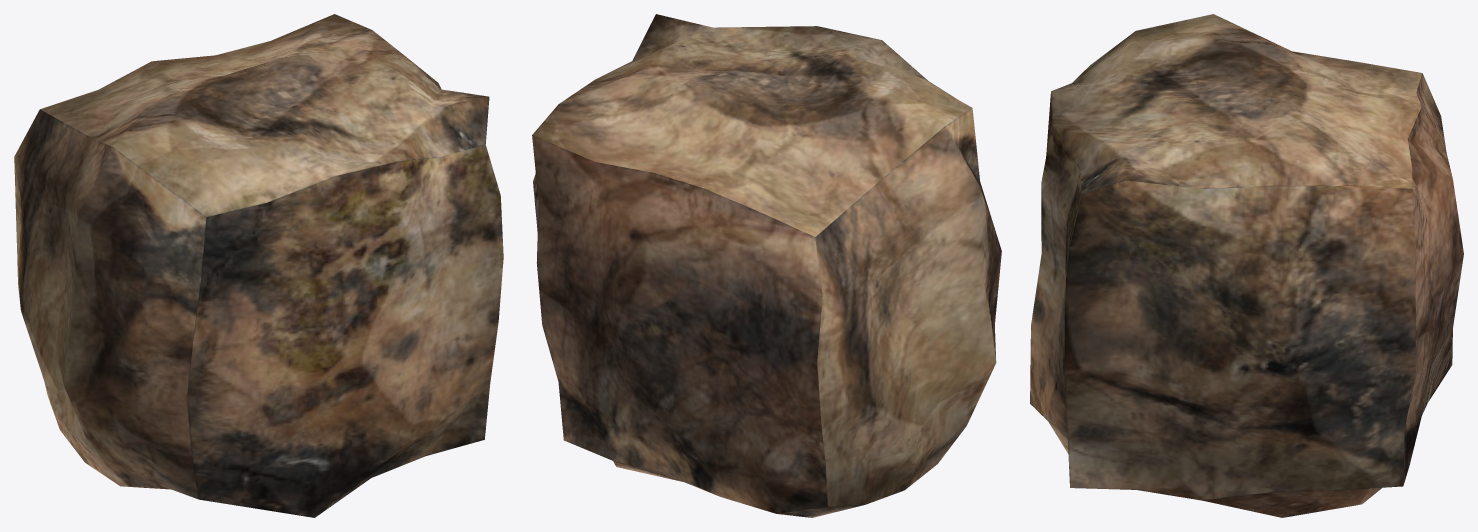
The model's file is rock_d_01.obj.
3 renders of one model, left to right at view 1: azimuth 30°, elevation 25°; view 2: azimuth 150°, elevation 25°; view 3: azimuth 270°, elevation 25°, orthographic. The views are drawn at different scales.
Visible parts, largest first — view 1: rockLP001; view 2: rockLP001; view 3: rockLP001.
Boxes of the visible parts, box(x1,y1,x2,y2) form: rockLP001: box(14, 14, 503, 517); rockLP001: box(532, 14, 1001, 517); rockLP001: box(1030, 14, 1463, 517).
Bounding box in the file's own units: 2.58 × 2.17 × 2.19.
